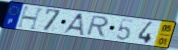4: (137, 21, 155, 45)
5: (115, 18, 135, 42)
7: (43, 8, 63, 33)
A: (60, 12, 85, 37)
H: (15, 6, 46, 32)
R: (84, 15, 111, 39)
